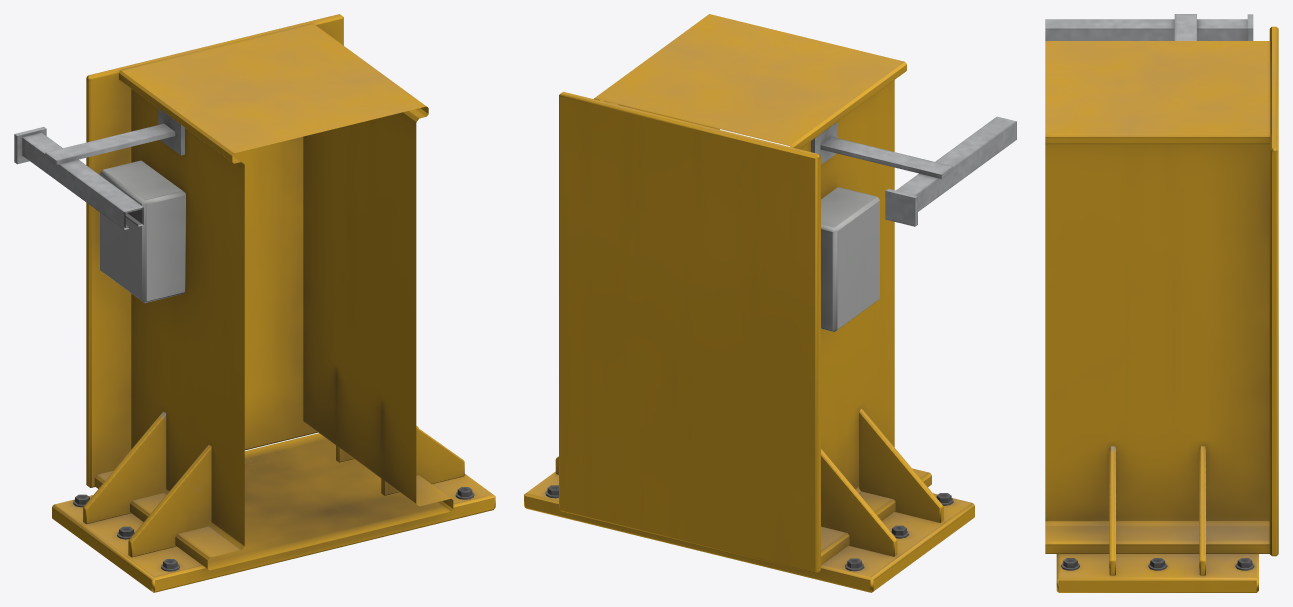
The model's file is Girder_End.fbx.
The picture shows the model from 3 angles, left to right: view 1: azimuth 30°, elevation 25°; view 2: azimuth 150°, elevation 25°; view 3: azimuth 270°, elevation 25°; orthographic projection. The views are drawn at different scales.
Parts seen in each view (by area): view 1: Girder_End_LOD0; view 2: Girder_End_LOD0; view 3: Girder_End_LOD0.
Part boxes in pixels (x1=…): Girder_End_LOD0: x1=14, y1=14, x2=495, y2=592; Girder_End_LOD0: x1=524, y1=14, x2=1016, y2=592; Girder_End_LOD0: x1=1045, y1=14, x2=1278, y2=592.
Size of what is drawn, in the model's own units: 0.78 by 0.83 by 0.415.
1 material, 1 textured.
